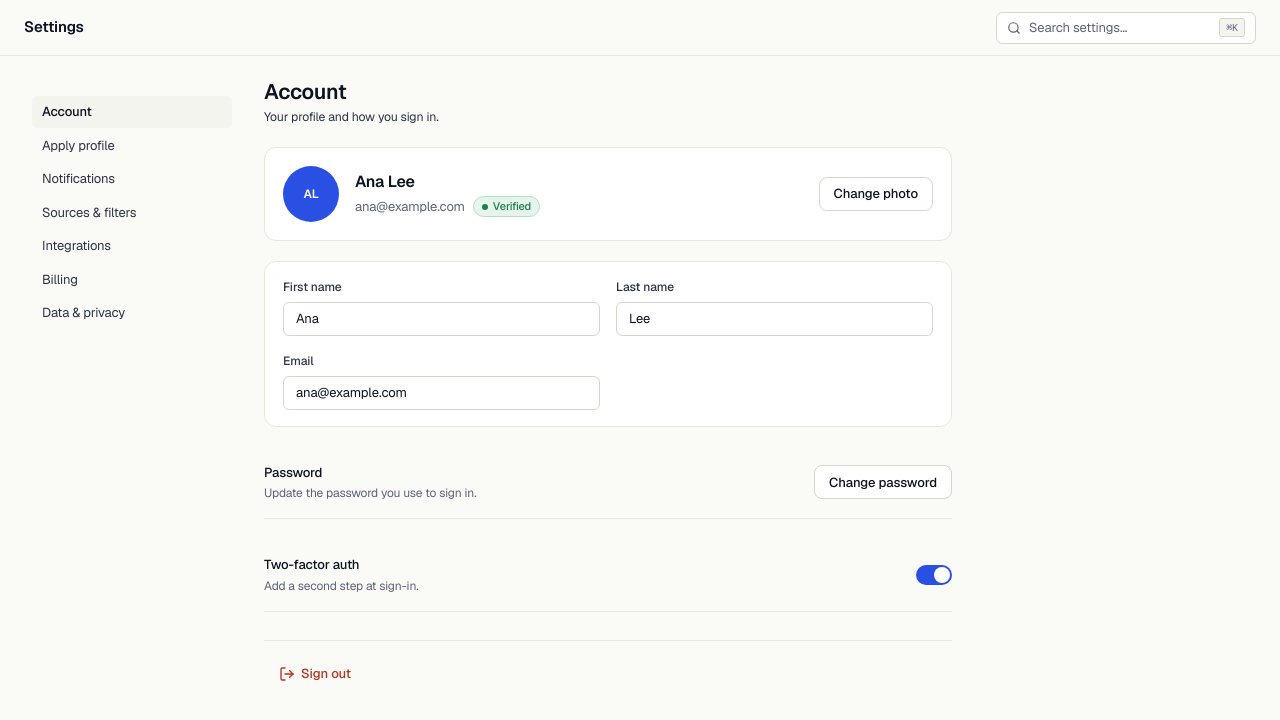
TC-FE-2FA-03: disabling 2FA requires a TOTP code input › shows a confirmation modal with a code input when toggling off
This screenshot has width=1280, height=720.
Click the switch named "two-factor auth".
click(934, 575)  # box [916,565,952,585]
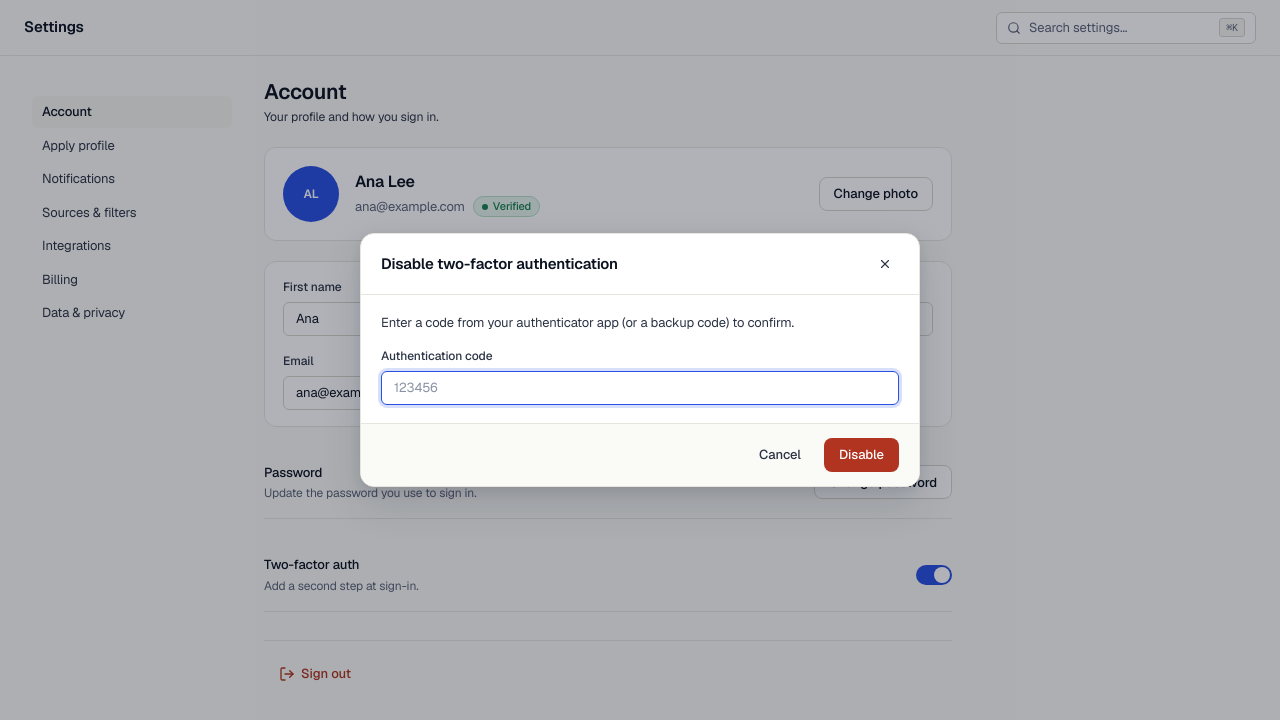
expect the field named "authentication code" is shown: met, box [381,371,899,405]
